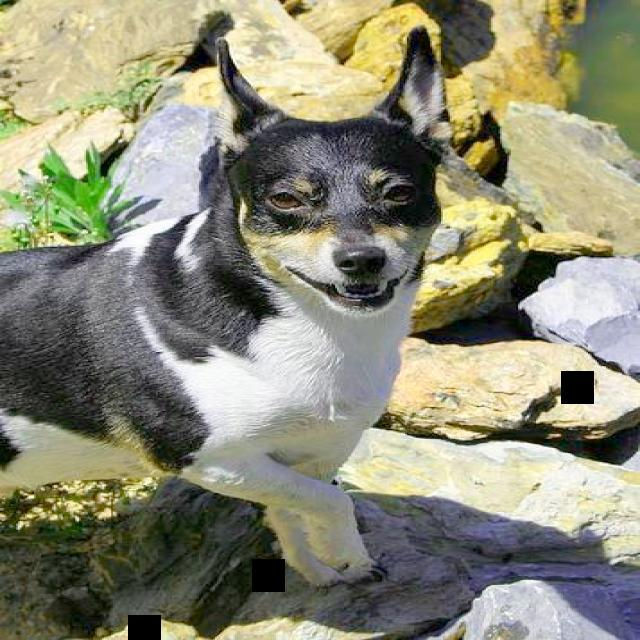adult_dog: (1, 13, 451, 590)
